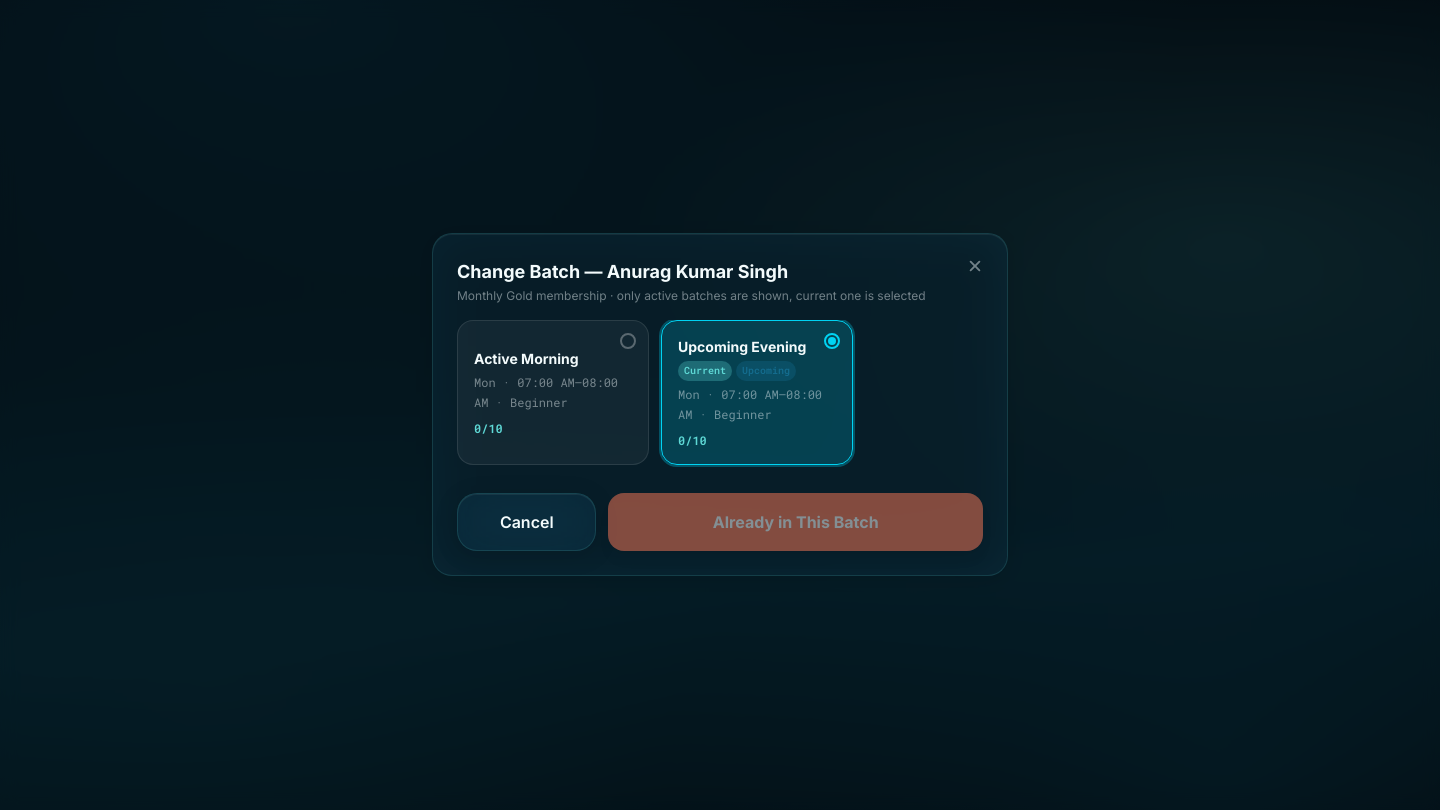
Test case: BatchPickerModal › Change mode shows only active batches plus the current one, pre-selected
Expected: the button "Already in This Batch" is disabled, top-left (608, 494), bottom-right (983, 552)
Expected: the text "Upcoming Evening" is shown, top-left (678, 338), bottom-right (806, 355)
Click the text "Active Morning".
click(526, 359)  # box top-left (474, 350), bottom-right (579, 368)
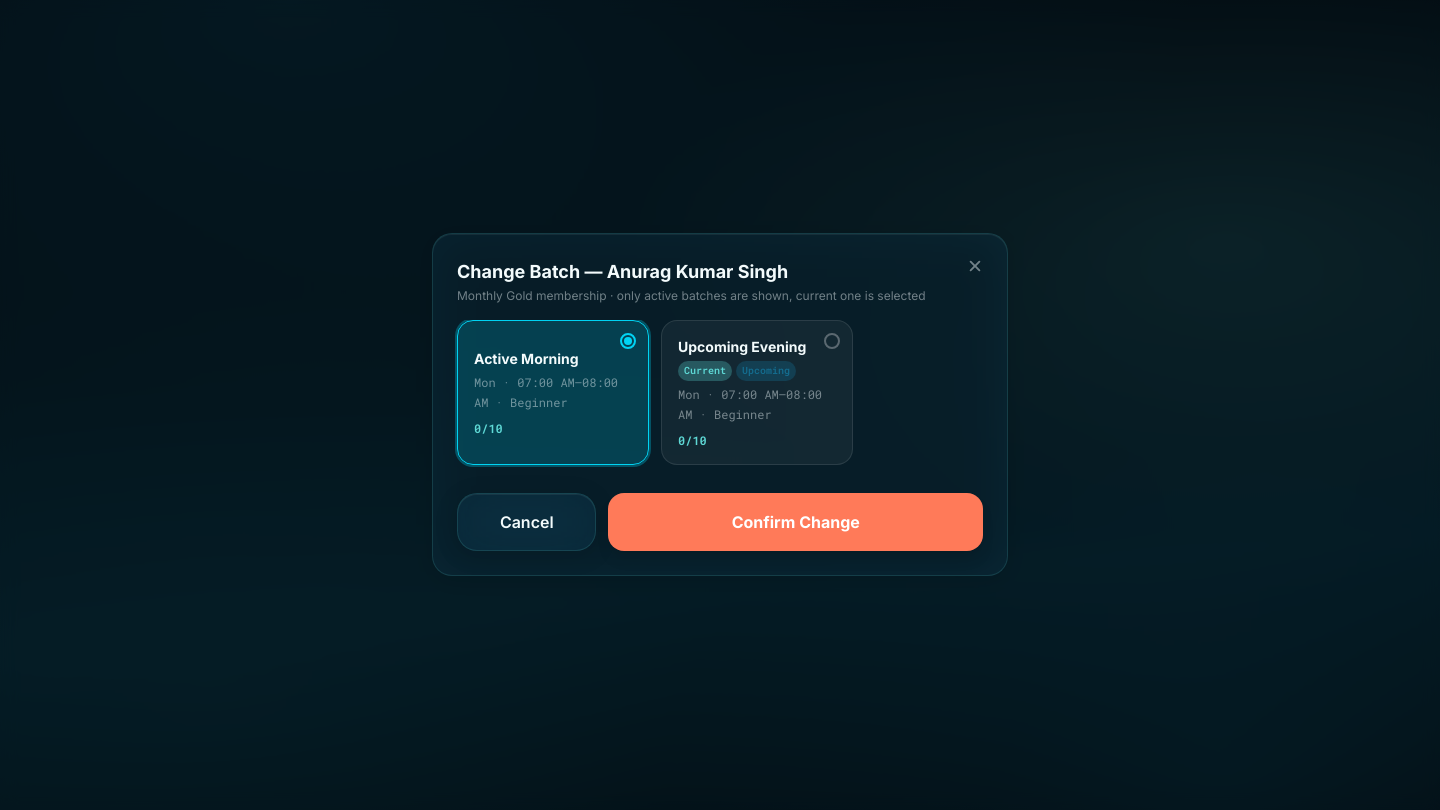
Result: the button "Confirm Change" is enabled at top-left (608, 494), bottom-right (983, 552)
